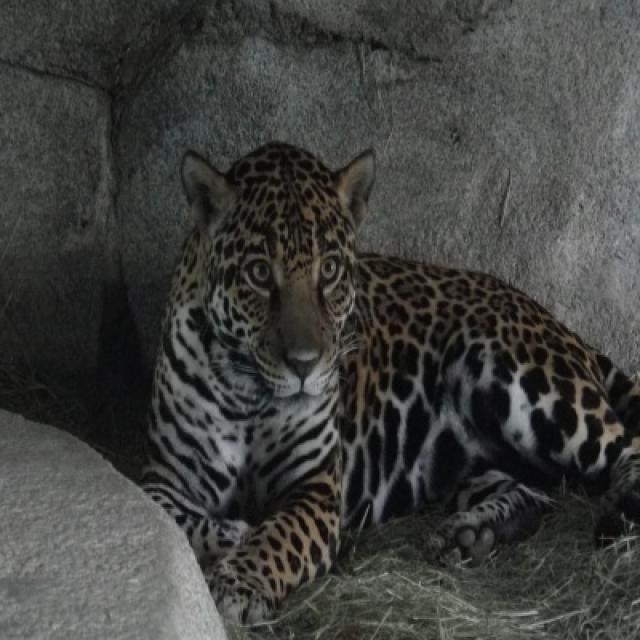Jaguar: (146, 142, 638, 622)
